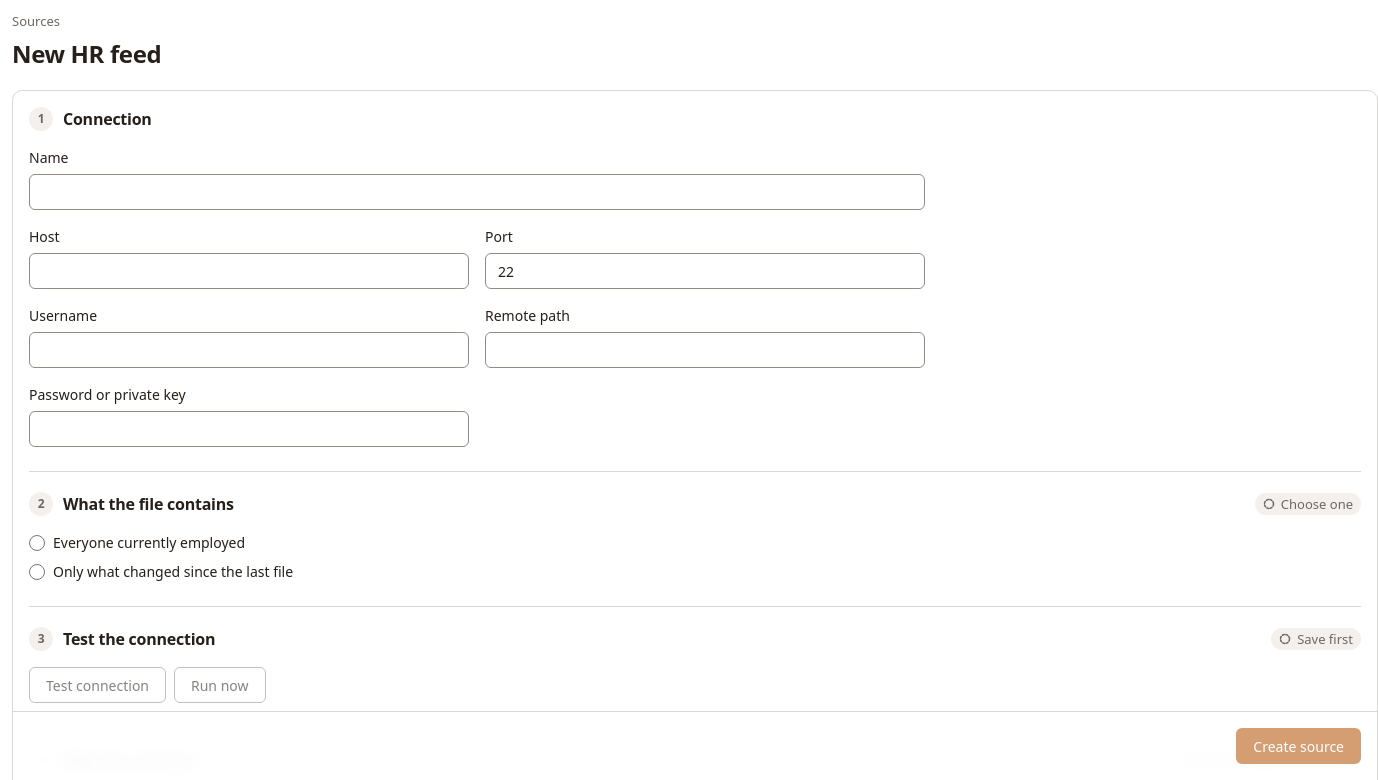
Test case: choosing what the file contains › will not save until one is chosen
Check: the button "Create source" is disabled, box x1=1236 y1=728 x2=1361 y2=764
Click the radio button labelled "Everyone currently employed". click: (37, 543)
box: x1=29 y1=535 x2=45 y2=551
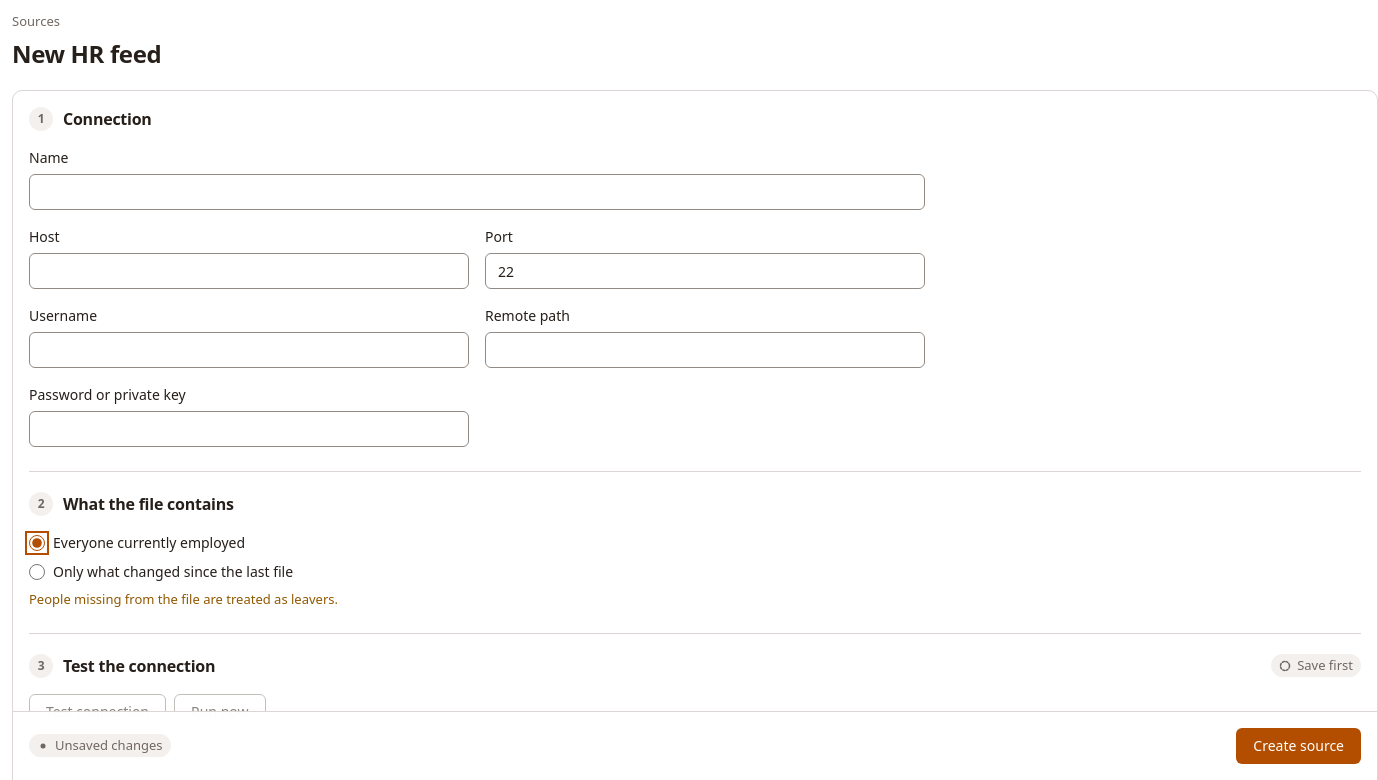
Check: the button "Create source" is enabled, box x1=1236 y1=728 x2=1361 y2=764
